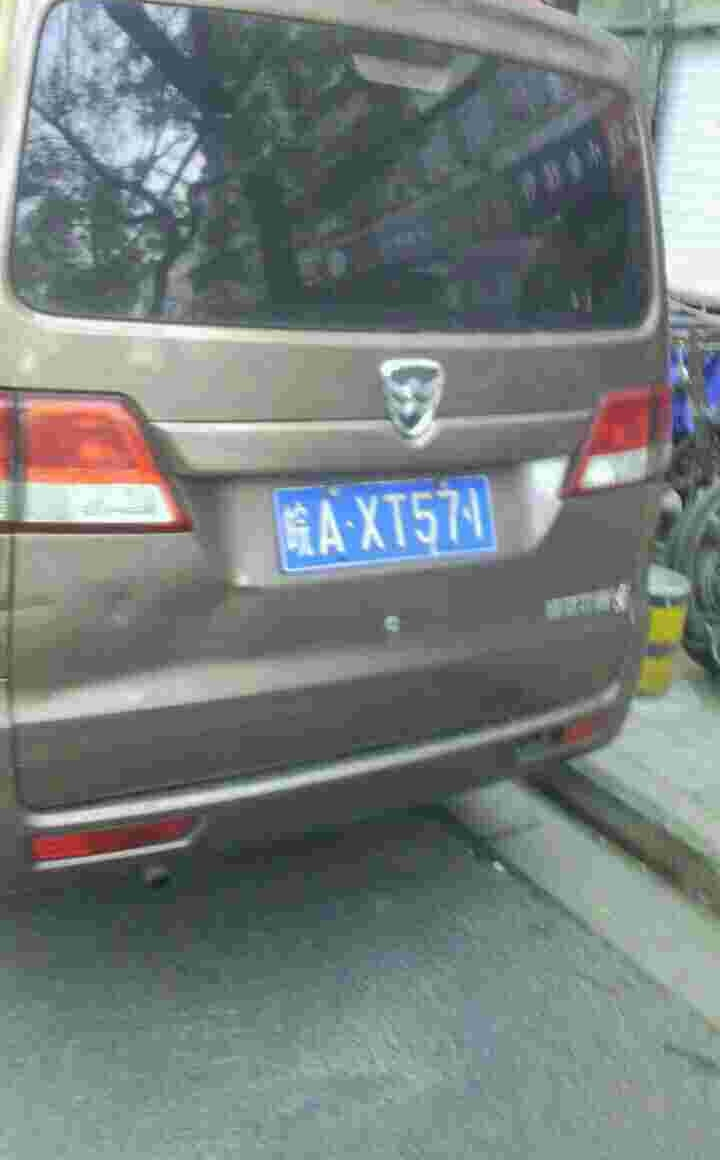license_plate: (286, 467, 492, 573)
